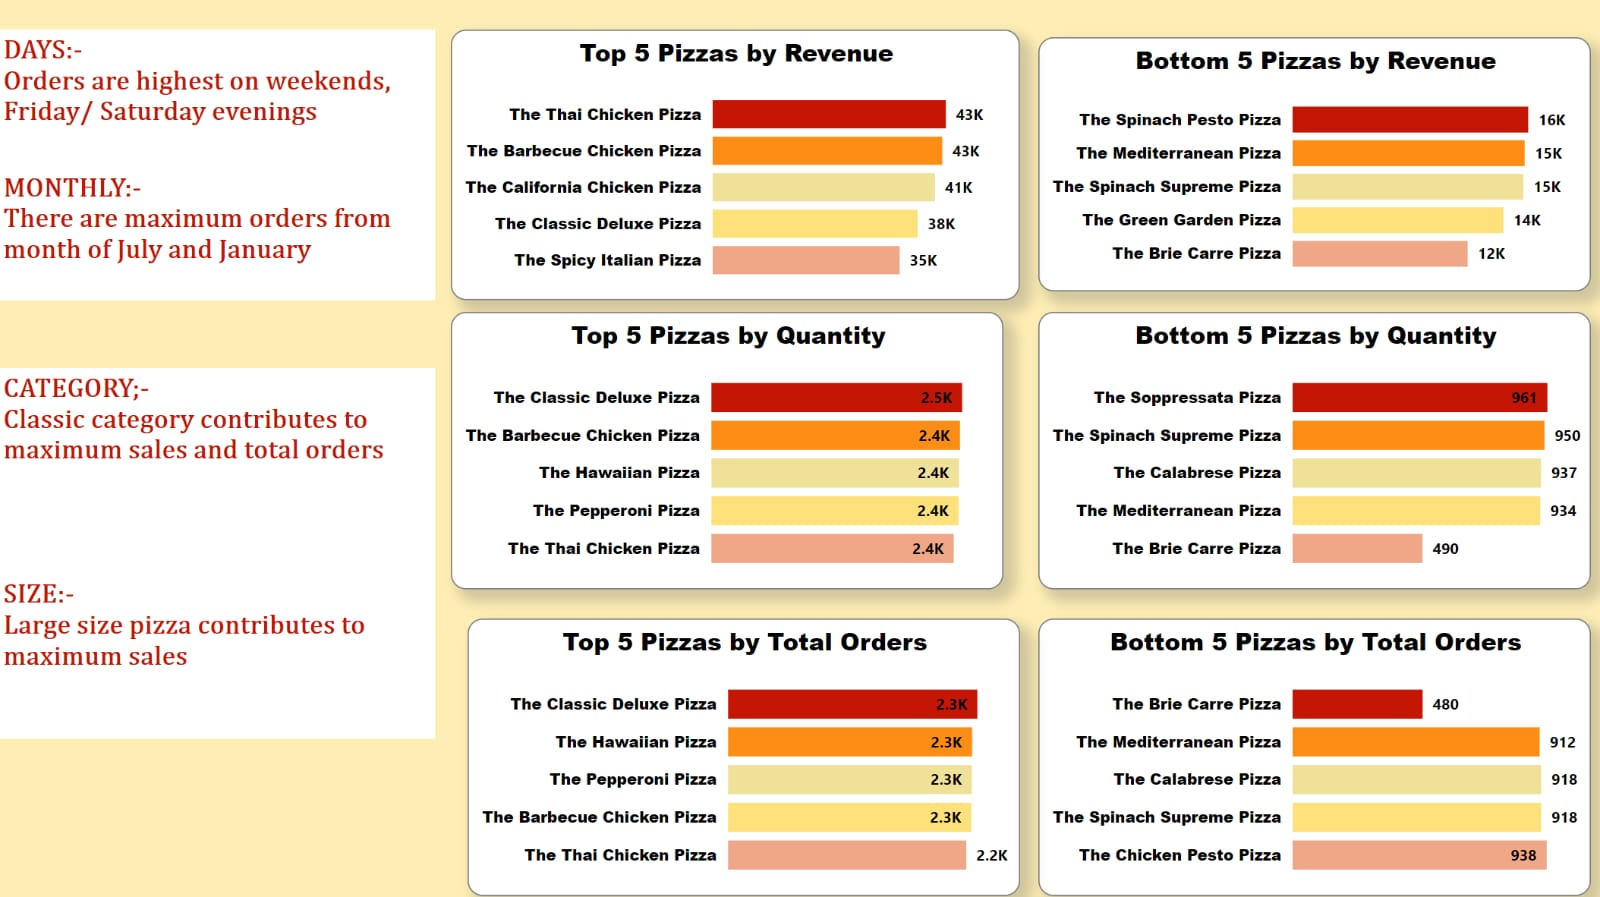

Layout of this report page (visuals, bound fields, positions):
{"tool":"powerbi","page":{"name":"Page 2","canvas":[1280,720],"ordinal":1},"visuals":[{"type":"barChart","title":"Top 5 Pizza By revenue","fields":{"Y":["Sum(pizza_sales.total_price)"],"Category":["pizza_sales.pizza_name"]},"box":[495.4,15.1,358.1,194.9],"z":0},{"type":"barChart","title":"Bottom 5 Pizza By revenue","fields":{"Y":["Sum(pizza_sales.total_price)"],"Category":["pizza_sales.pizza_name"]},"box":[897.4,15.1,358.1,194.9],"z":1000},{"type":"barChart","title":"Top 5 Pizzas By Quantity","fields":{"Category":["pizza_sales.pizza_name"],"Y":["Sum(pizza_sales.quantity)"]},"box":[495.4,240.1,358.1,194.9],"z":2000},{"type":"barChart","title":"Bottom 5 Pizzas By Quantity","fields":{"Category":["pizza_sales.pizza_name"],"Y":["Sum(pizza_sales.quantity)"]},"box":[897.4,240.1,358.1,194.9],"z":3000},{"type":"barChart","title":"Top 5 Pizzas By Total Orders","fields":{"Category":["pizza_sales.pizza_name"],"Y":["pizza_sales.Total Orders"]},"box":[495.4,484.4,358.1,194.9],"z":4000},{"type":"barChart","title":"Bottom 5 Pizzas By Total Orders","fields":{"Category":["pizza_sales.pizza_name"],"Y":["pizza_sales.Total Orders"]},"box":[897.4,484.4,358.1,194.9],"z":5000},{"type":"textbox","box":[0,183.9,341.7,153.7],"z":6000},{"type":"textbox","box":[0,15.1,341.7,153.7],"z":7000}]}

Visuals, with their boxes in screenshot pixels (x1, y1, x2, y2), scaled from the page's 1280x720 canvas onto the 1600x897 screenshot:
"Top 5 Pizza By revenue" barChart: [619,19,1067,262]
"Bottom 5 Pizza By revenue" barChart: [1122,19,1569,262]
"Top 5 Pizzas By Quantity" barChart: [619,299,1067,542]
"Bottom 5 Pizzas By Quantity" barChart: [1122,299,1569,542]
"Top 5 Pizzas By Total Orders" barChart: [619,603,1067,846]
"Bottom 5 Pizzas By Total Orders" barChart: [1122,603,1569,846]
textbox: [0,229,427,421]
textbox: [0,19,427,210]
